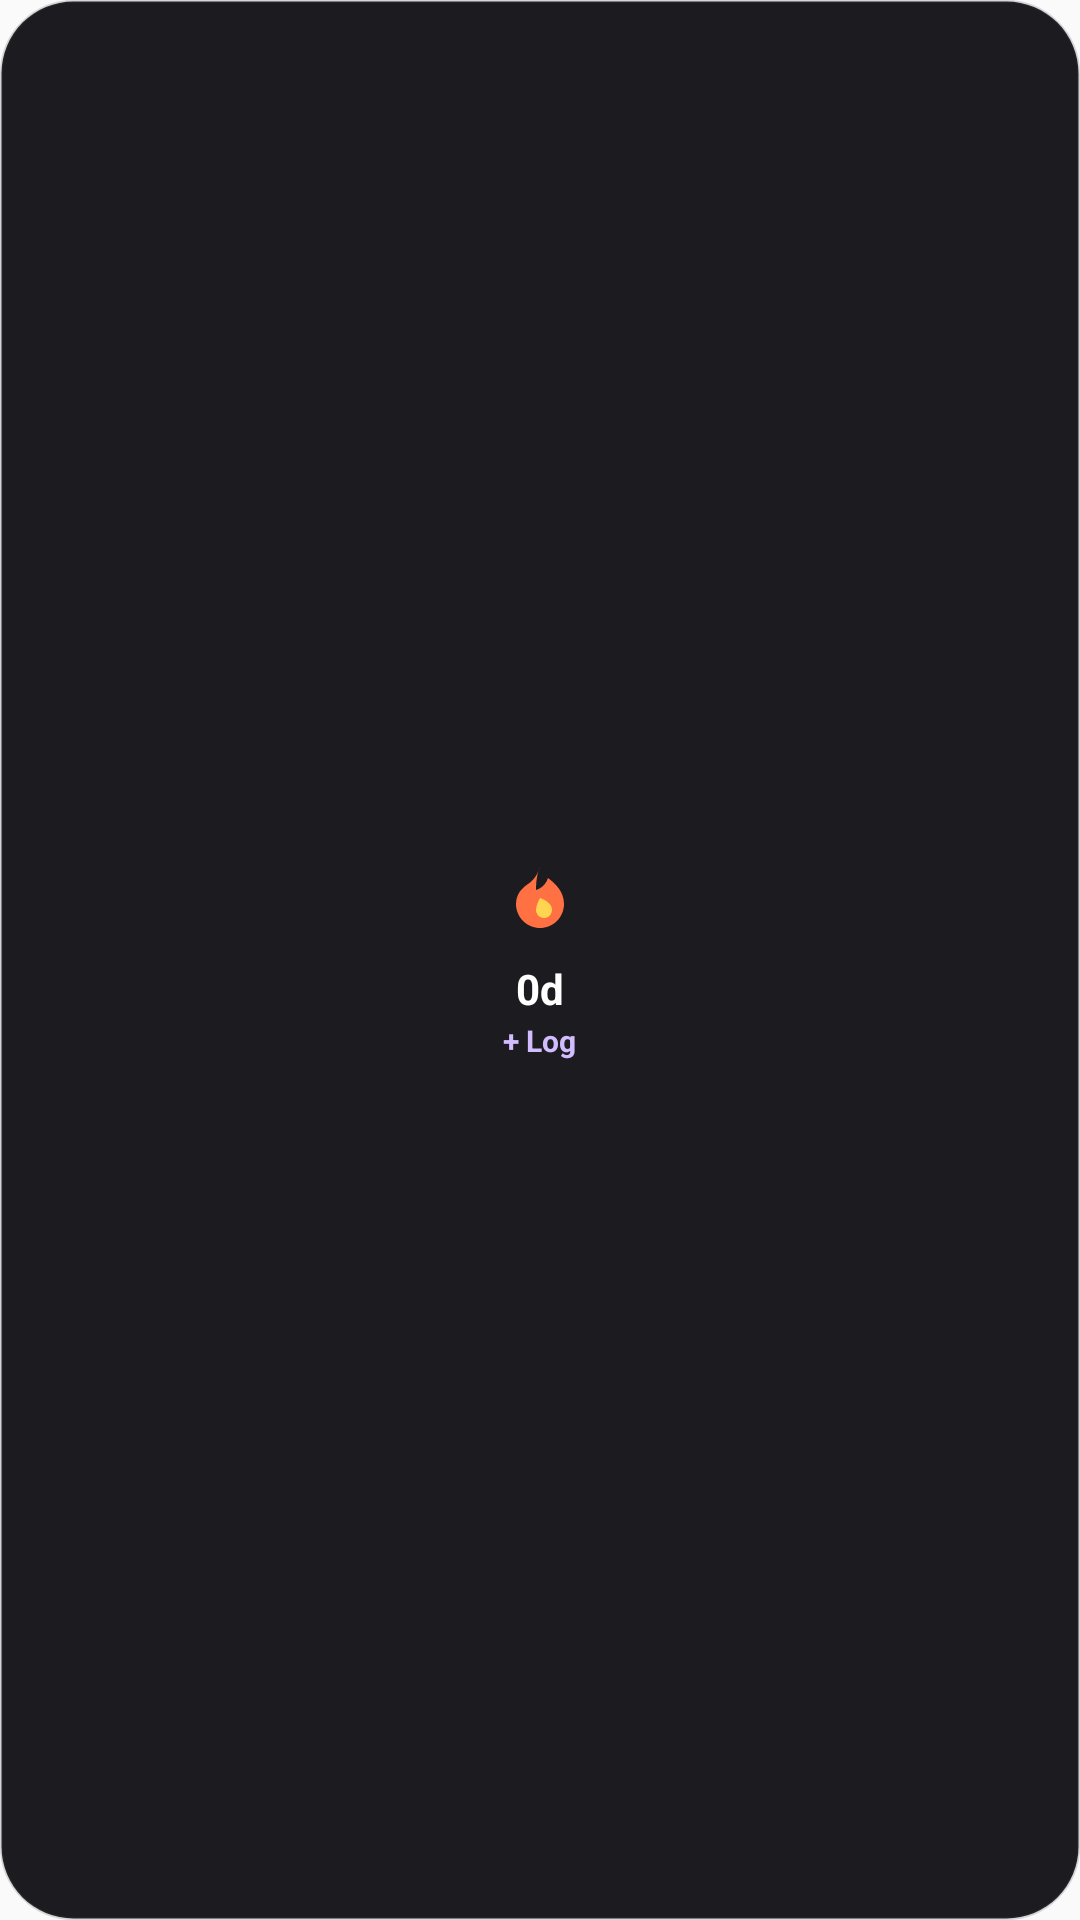

Icons on this 1080*1920 Android screen, each with its box as [left=x1, top=y1, right=x2, bottom=y2]:
Streak Flame: [left=516, top=868, right=564, bottom=928]
